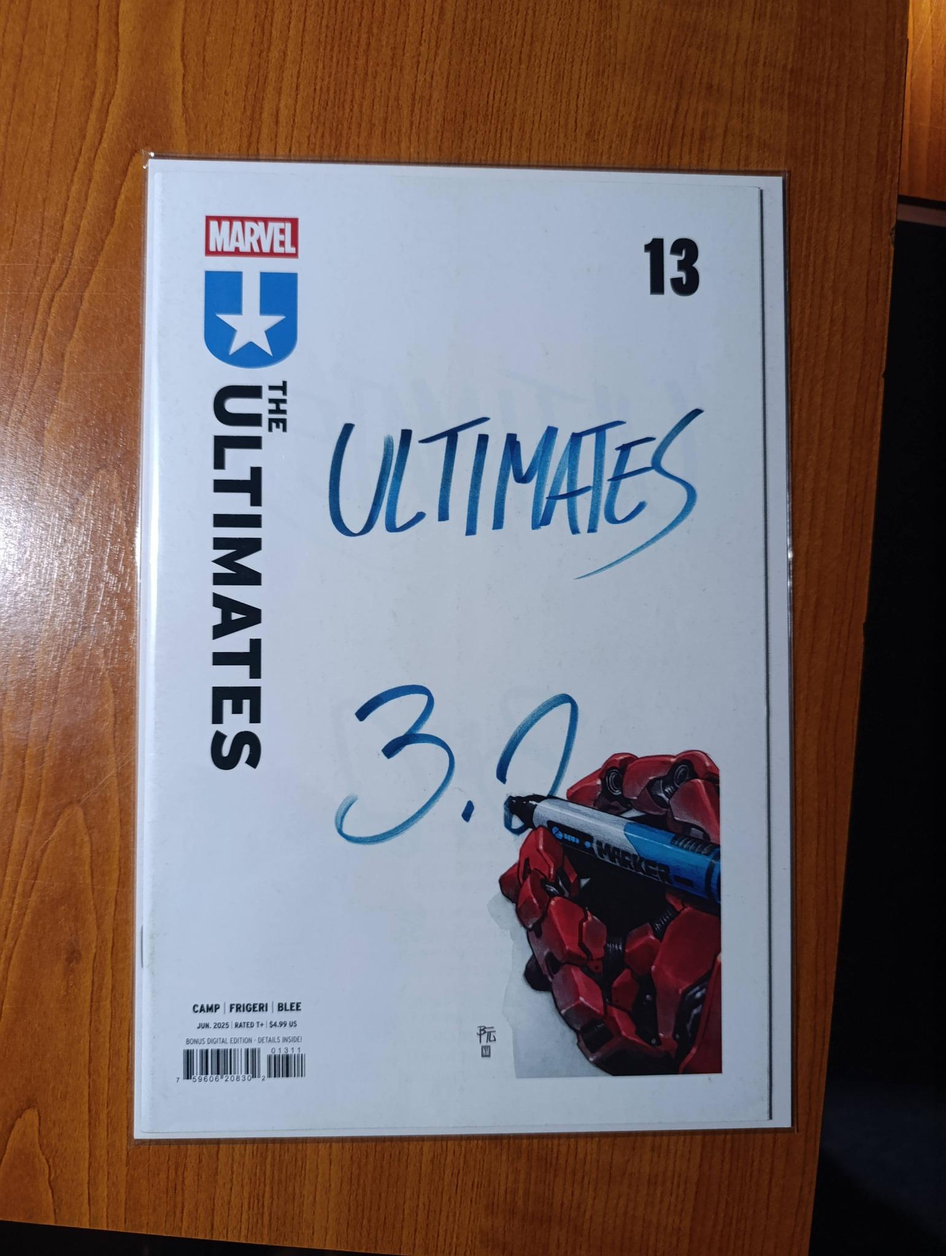comic: (135, 159, 798, 1143)
